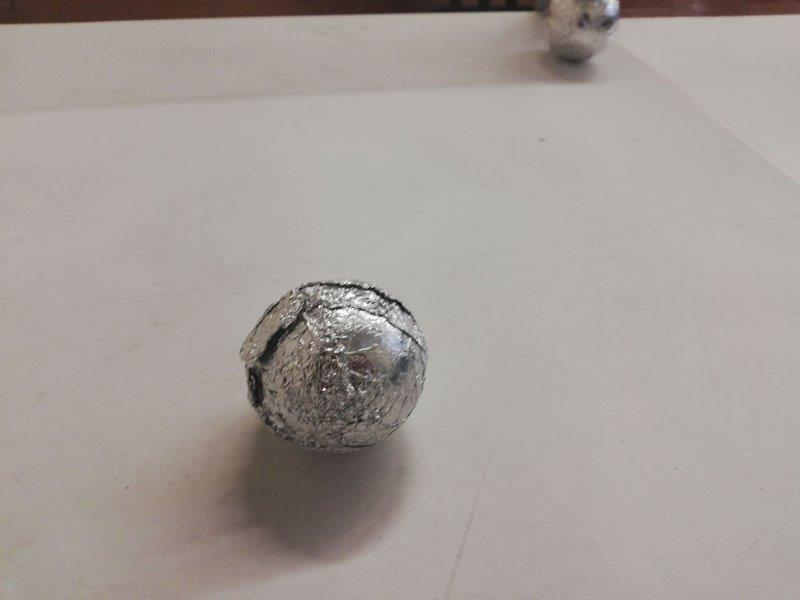bianca: (242, 277, 420, 456), (542, 3, 619, 63)
